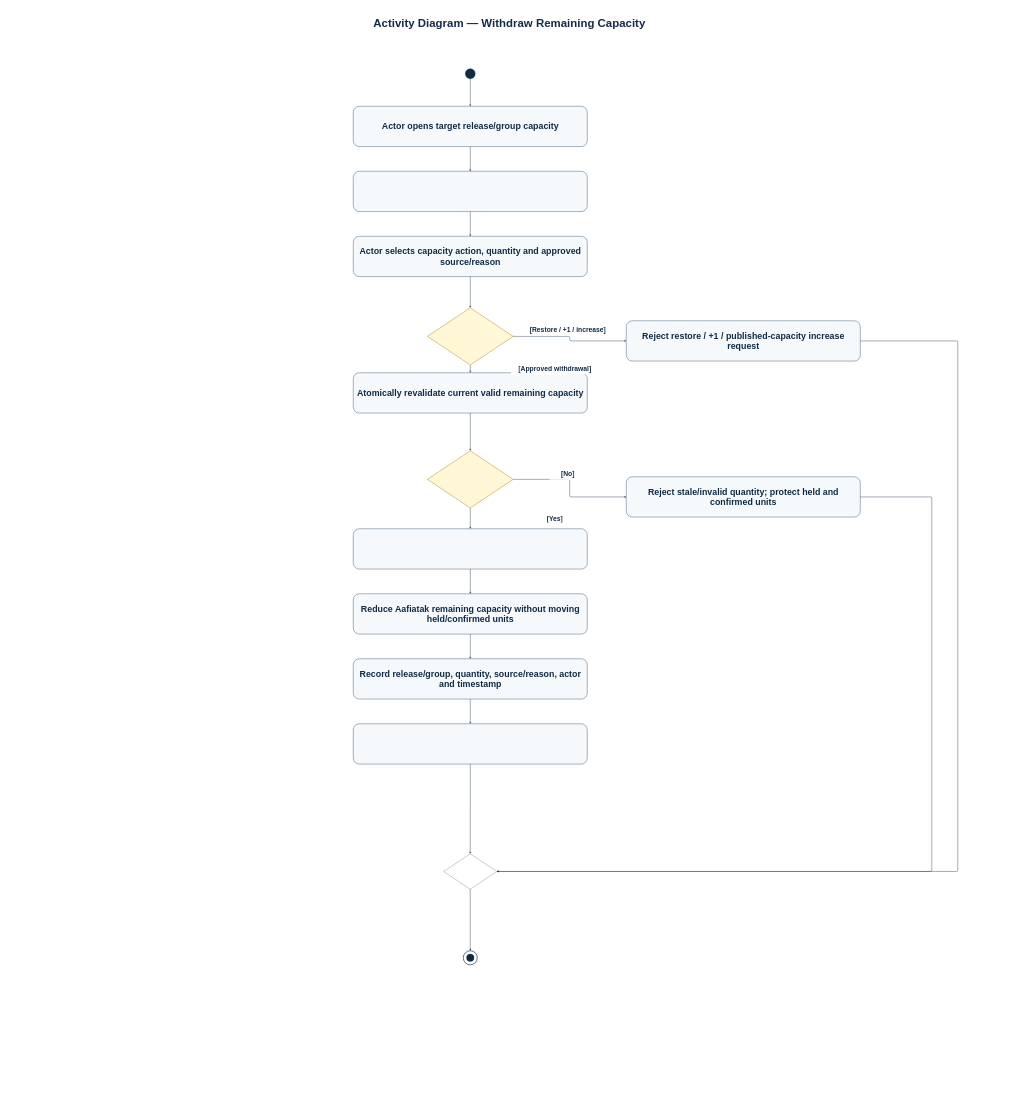
Some shapes in this 1018 by 1096 pixel diagram are drawn without their labels. The shapes that lost their labels are listed below. From the top down, each one's box as (x1, y1, x2, y2) in pixels, then its label:
(353, 171, 587, 212): Display published, held, confirmed, withdrawn and remaining capacity
(427, 308, 513, 365): Requested action is an approved one-way CapacityWithdrawal?
(427, 451, 513, 508): Requested quantity is positive and <= valid remaining capacity?
(353, 529, 587, 569): Create irreversible CapacityWithdrawal
(353, 724, 587, 764): Display updated capacity
